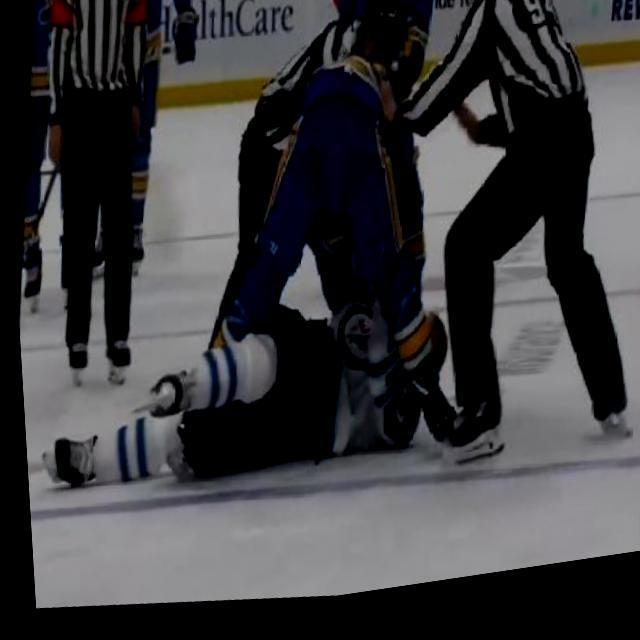fight: (202, 46, 477, 499)
